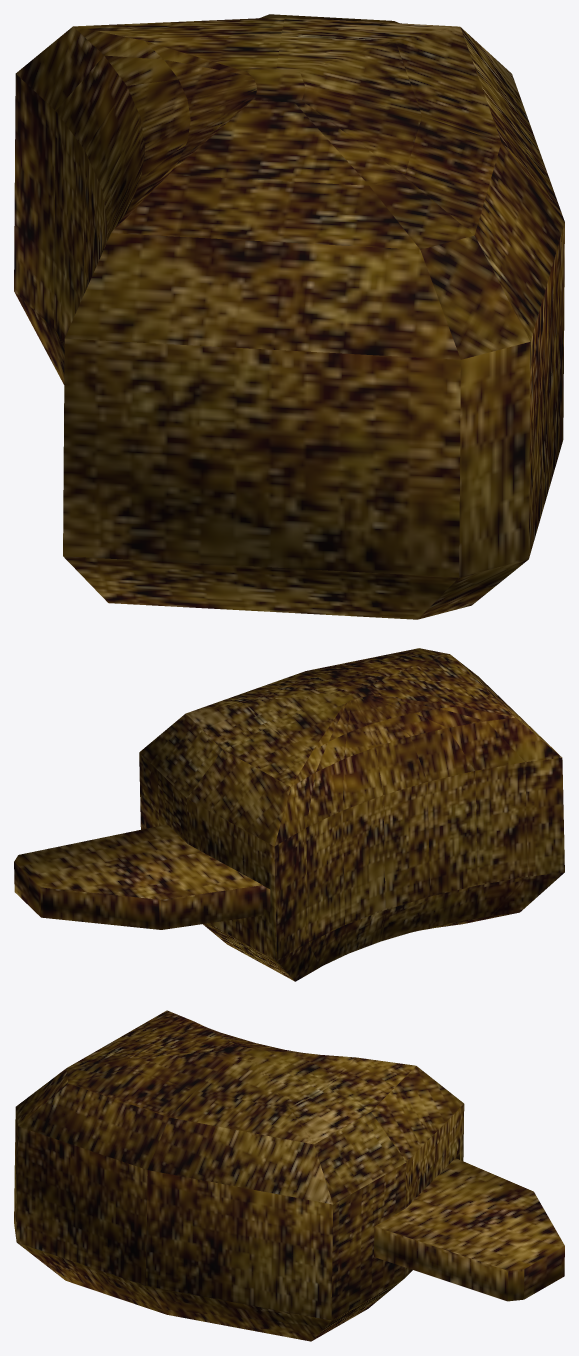
Rendered from strangeRock1Ver2.fbx.
The picture shows the model from 3 angles, top to bottom: view 1: azimuth 30°, elevation 25°; view 2: azimuth 150°, elevation 25°; view 3: azimuth 270°, elevation 25°; orthographic projection. The views are drawn at different scales.
Parts seen in each view (by area): view 1: polySurface12; view 2: polySurface12; view 3: polySurface12.
Boxes of the visible parts, bbox=[...] form: polySurface12: bbox=[14, 14, 564, 619]; polySurface12: bbox=[14, 648, 564, 981]; polySurface12: bbox=[14, 1010, 564, 1341].
Bounding box in the file's own units: 6.7 × 4.21 × 8.55.
1 material, 1 textured.
